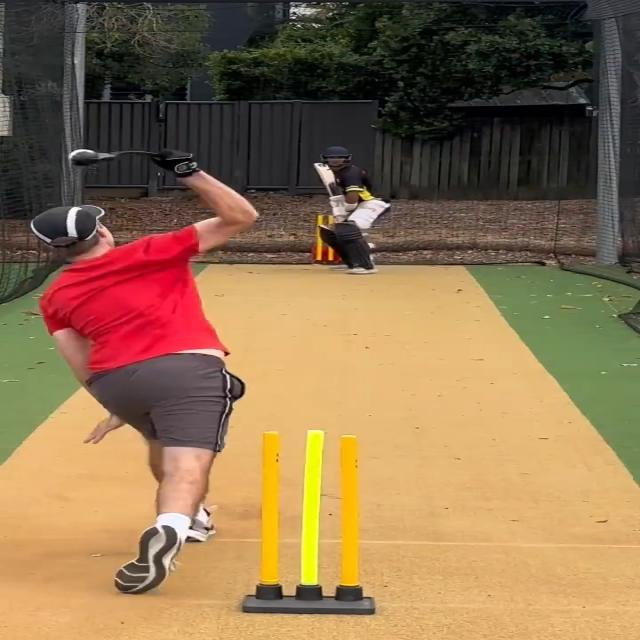stump: (241, 426, 373, 614)
